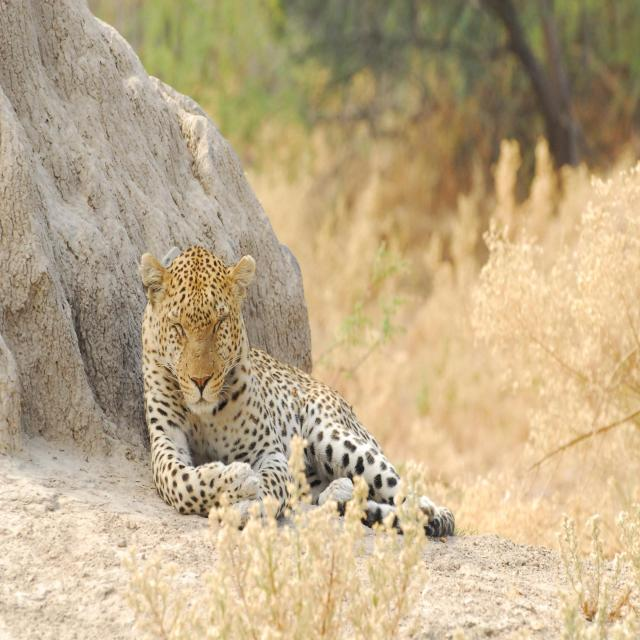Leopard: (132, 227, 458, 536)
